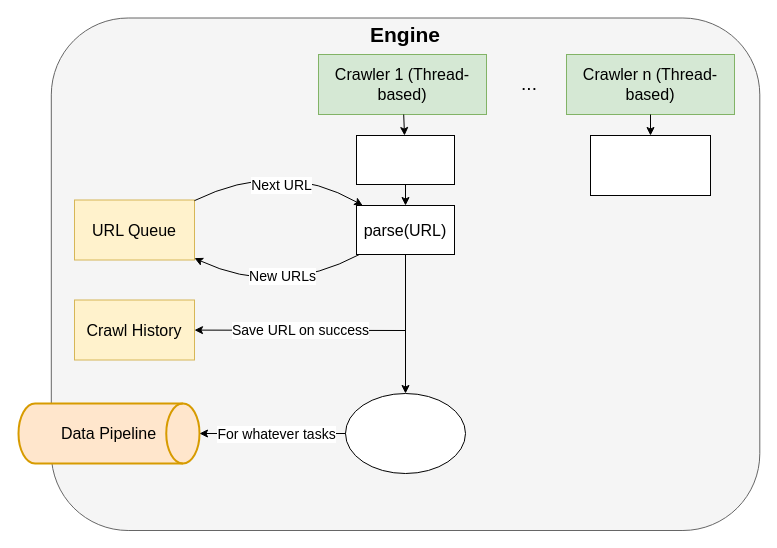
Image size: 777x548. Some labels were removed from this diagram. The shapes that lost their labels are listed below. From the top down, each one's box as (x1, y1, x2, y2) in pixels, then its label:
(356, 134, 454, 184): start()
(590, 134, 710, 196): Same as Crawler 1
(344, 392, 466, 474): Extracted Data
